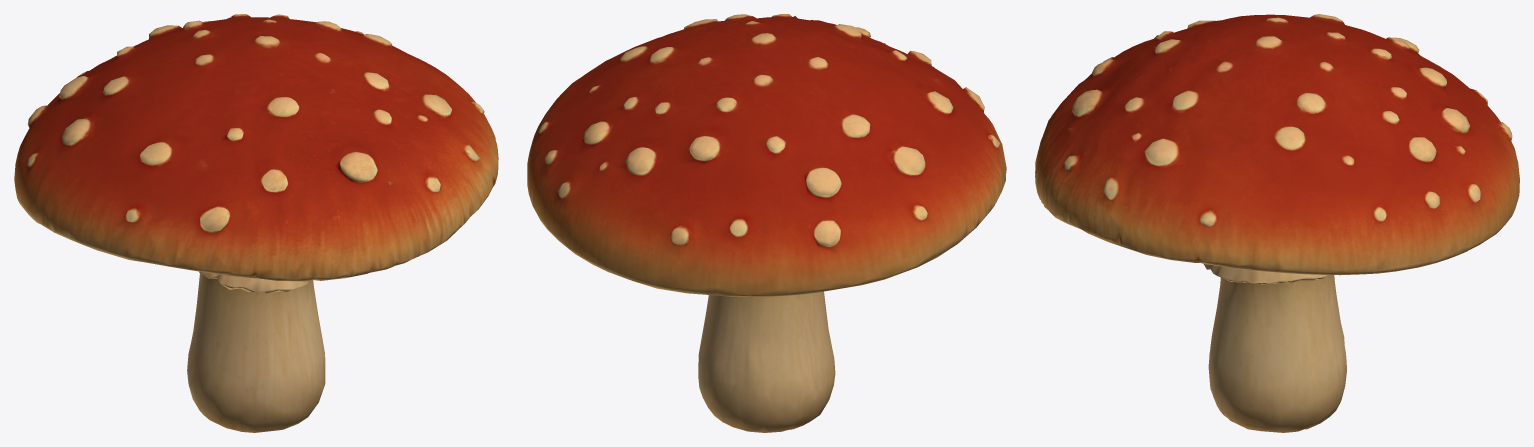
File: source_2.glb
3 renders of one model, left to right at view 1: azimuth 30°, elevation 25°; view 2: azimuth 150°, elevation 25°; view 3: azimuth 270°, elevation 25°, orthographic.
Parts seen in each view (by area): view 1: tripo_node_b947757e-d54a-46bf-9b06-06671451327d; view 2: tripo_node_b947757e-d54a-46bf-9b06-06671451327d; view 3: tripo_node_b947757e-d54a-46bf-9b06-06671451327d.
Part boxes in pixels (left/top/right/bottom): tripo_node_b947757e-d54a-46bf-9b06-06671451327d: left=14, top=14, right=498, bottom=432; tripo_node_b947757e-d54a-46bf-9b06-06671451327d: left=527, top=14, right=1006, bottom=432; tripo_node_b947757e-d54a-46bf-9b06-06671451327d: left=1035, top=14, right=1519, bottom=432.
Bounding box in the file's own units: 0.9803 × 0.8519 × 0.9767.
1 material, 1 textured.
